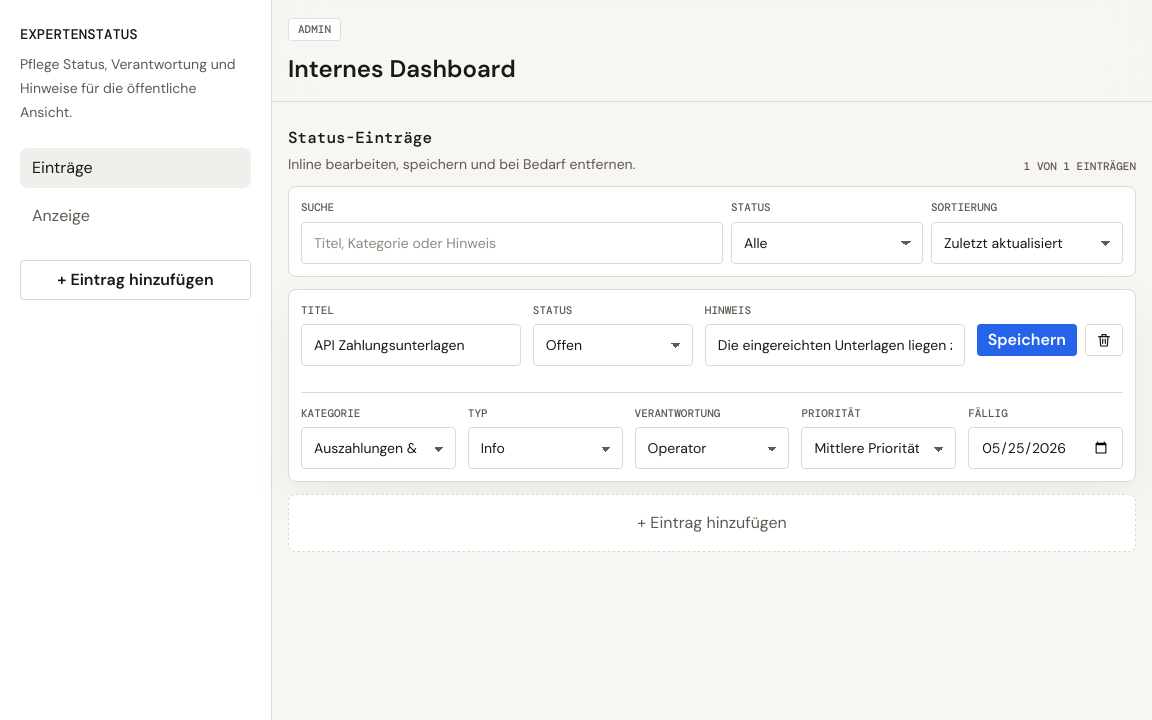
it: restores the previous status entry when saving an edit fails
The width and height of the screenshot is (1152, 720).
expect the heading "Internes Dashboard" is shown: met, box [288,53,516,85]
Clear the field labelled "Titel" at (411, 345), box [301,324,521,366]
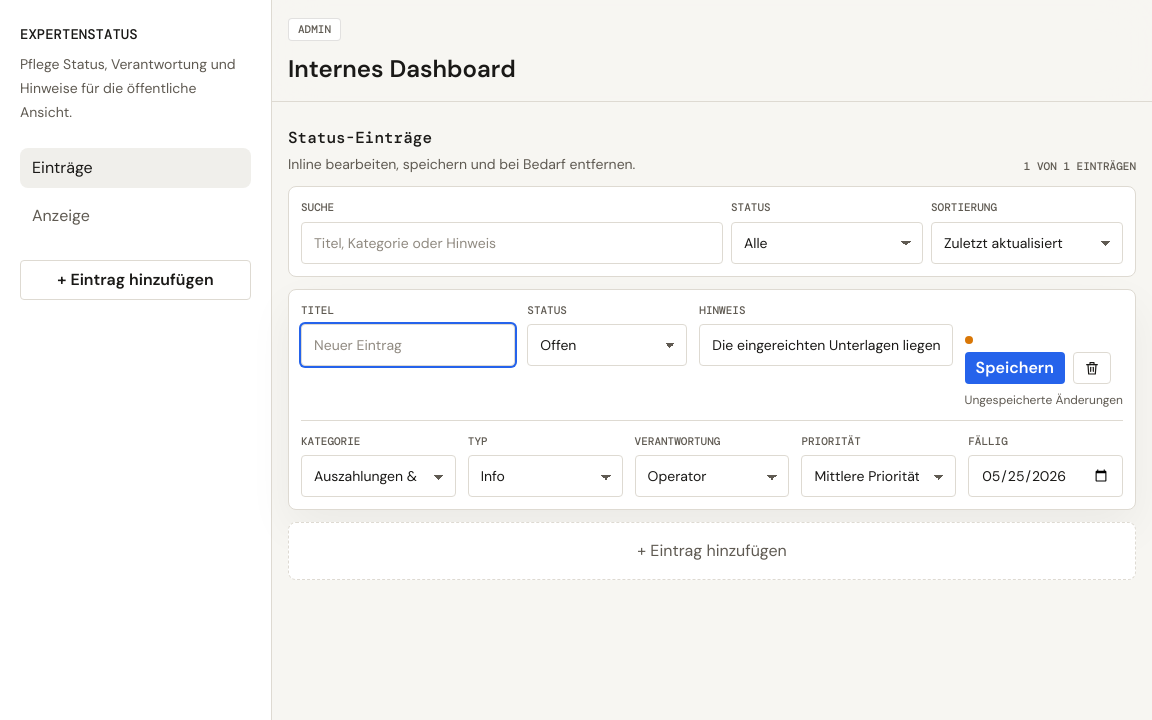
Type "Nicht gespeicherter Titel" into the field labelled "Titel" at (408, 345), box [301,324,515,366]
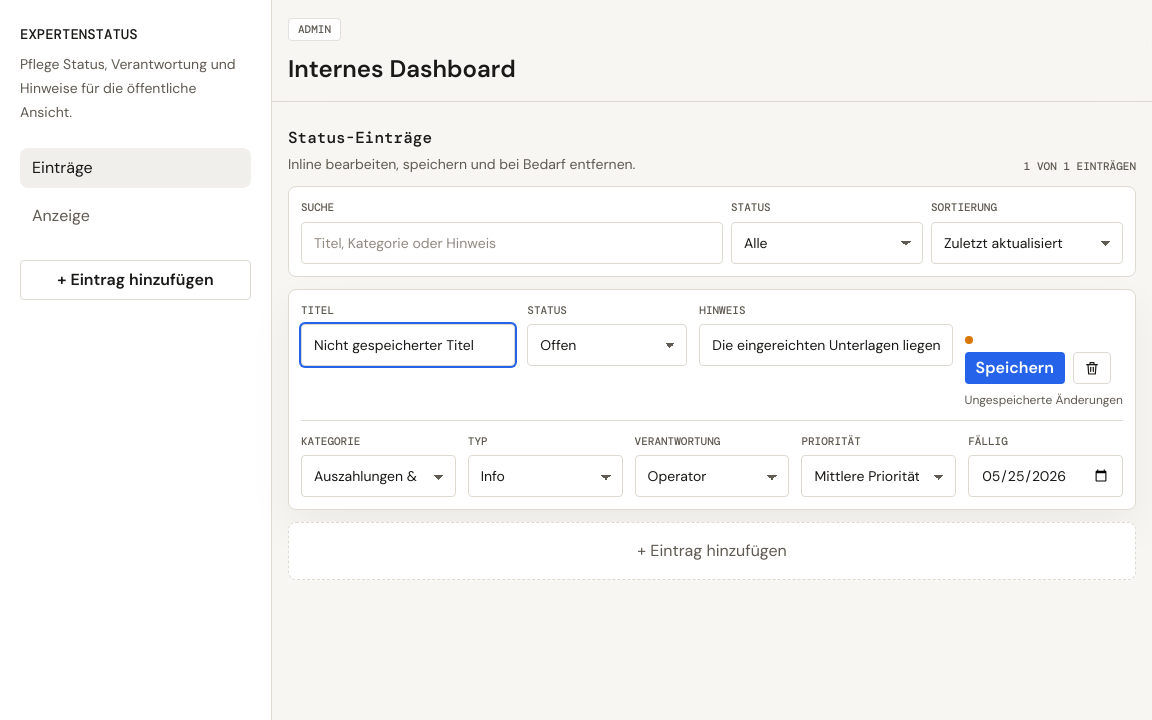
Click the button "Speichern" at (1015, 368), box [965,352,1065,384]
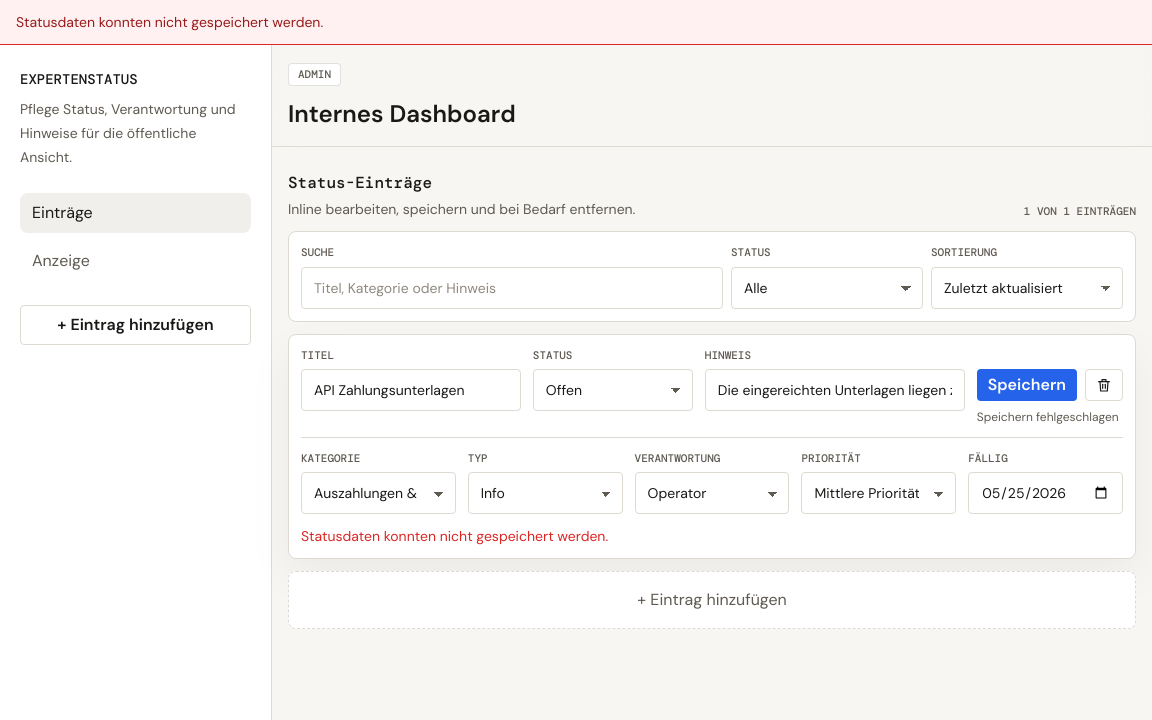
expect the heading "Nicht gespeicherter Titel" is not shown: met
expect the text "Statusdaten konnten nicht gespeichert werden." is shown 2 times: met, box [16,13,323,31]; [301,527,608,545]
